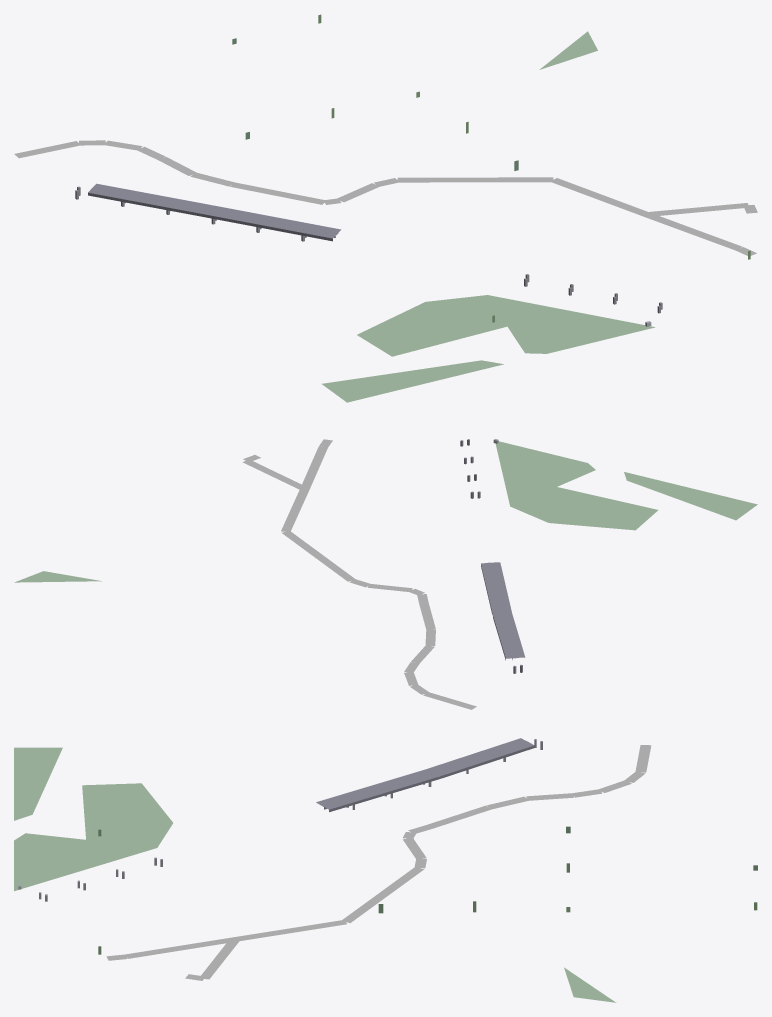
The picture shows the model from 3 angles, top to bottom: view 1: azimuth 30°, elevation 25°; view 2: azimuth 150°, elevation 25°; view 3: azimuth 270°, elevation 25°; orthographic projection. The views are drawn at different scales.
Bounding box in the file's own units: 392 × 10.33 × 476.
